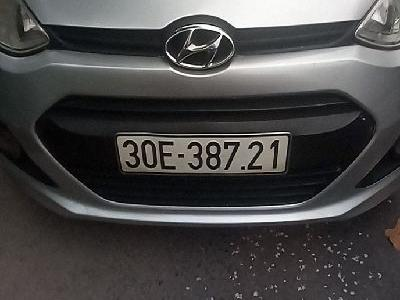number: (113, 131, 290, 174)
